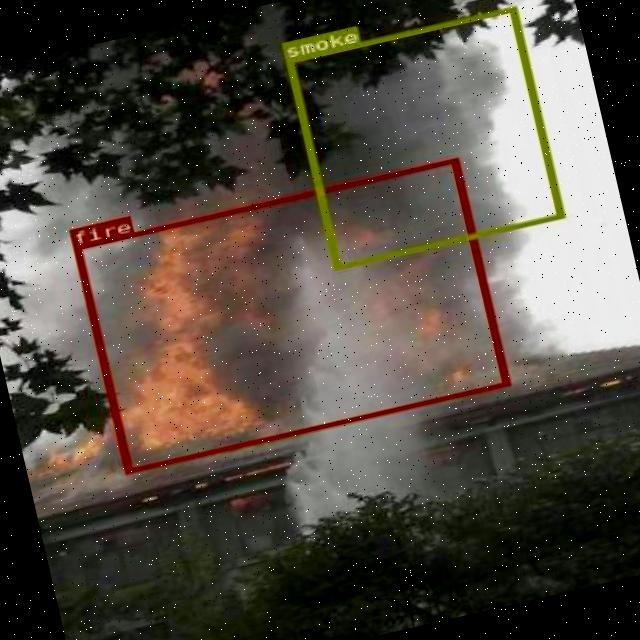fire: (72, 156, 509, 474)
smoke: (284, 5, 562, 270)
